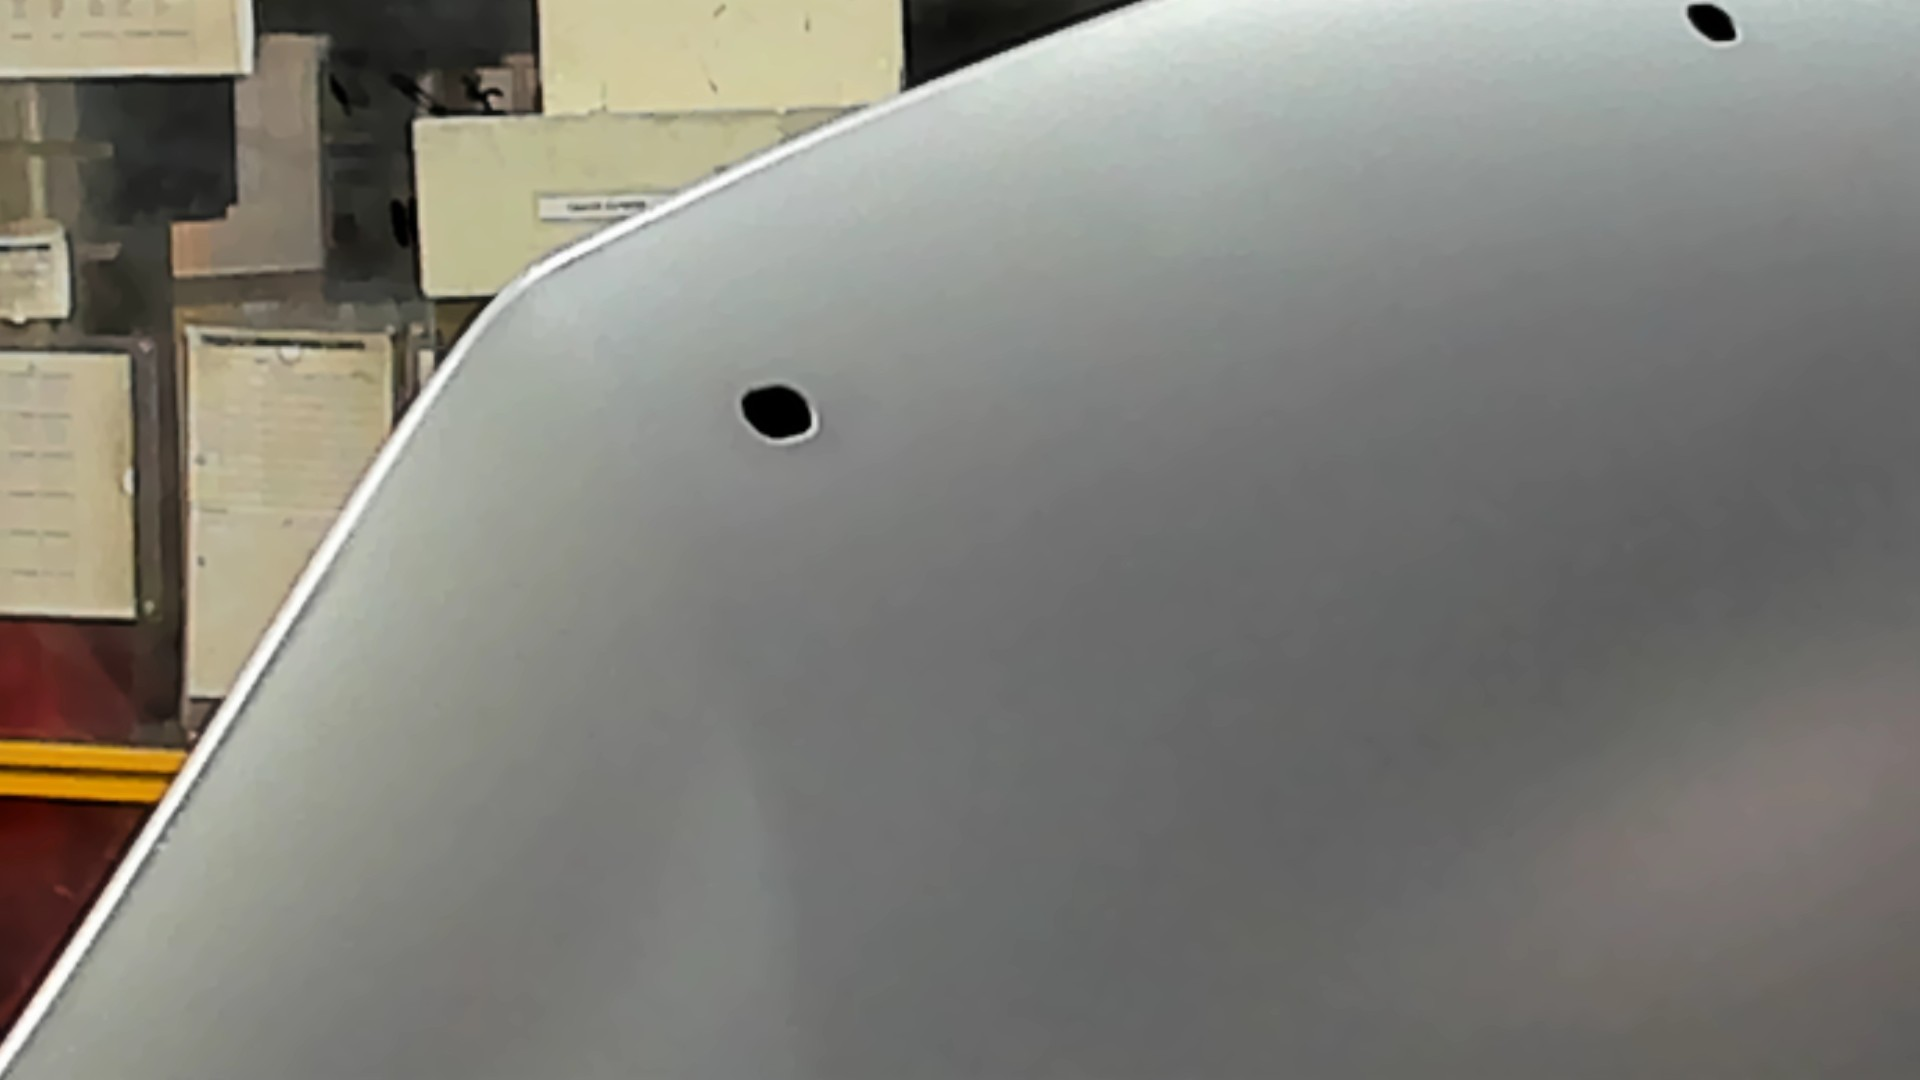amorfo: (728, 378, 833, 456), (1673, 1, 1751, 47)
